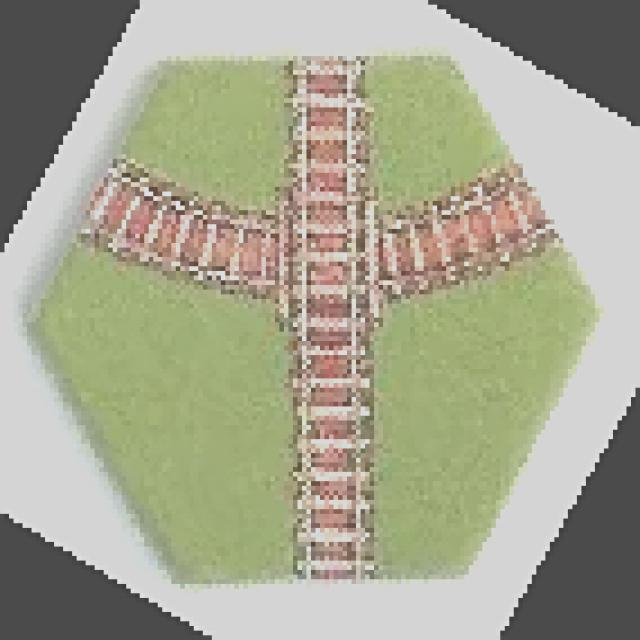8_4: (32, 51, 602, 583)
